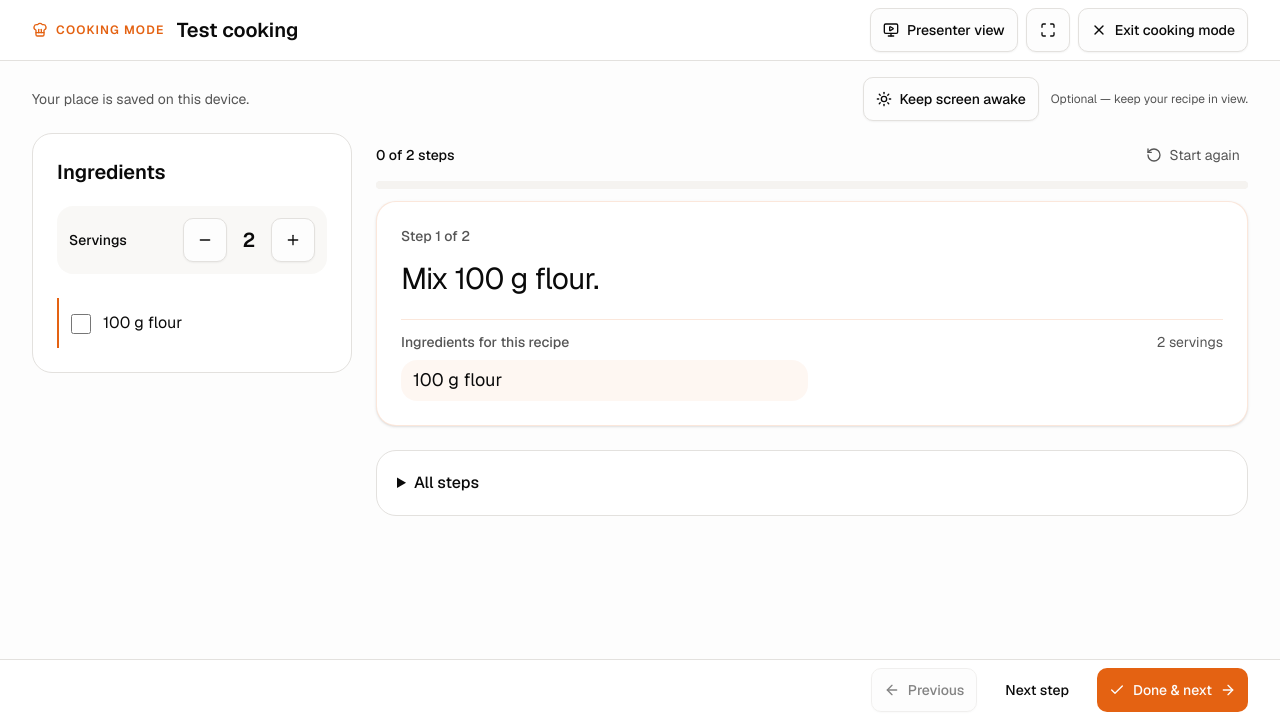
cooking mode › keeps presenter view usable when fullscreen is denied
The image size is (1280, 720).
Click the button named "Enter fullscreen".
click(1048, 30)  # box [1026,8,1070,52]
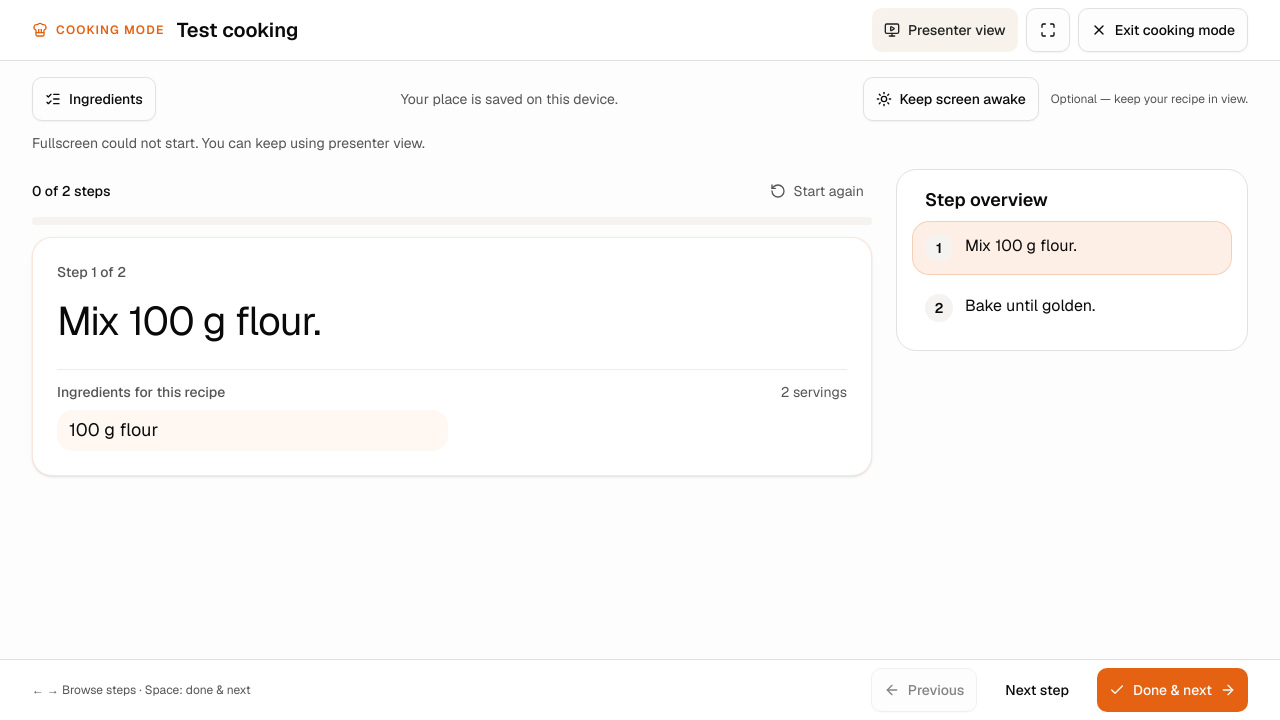
Result: the message "Fullscreen could not start. You can keep using presenter view." is shown at [32,134,425,152]
